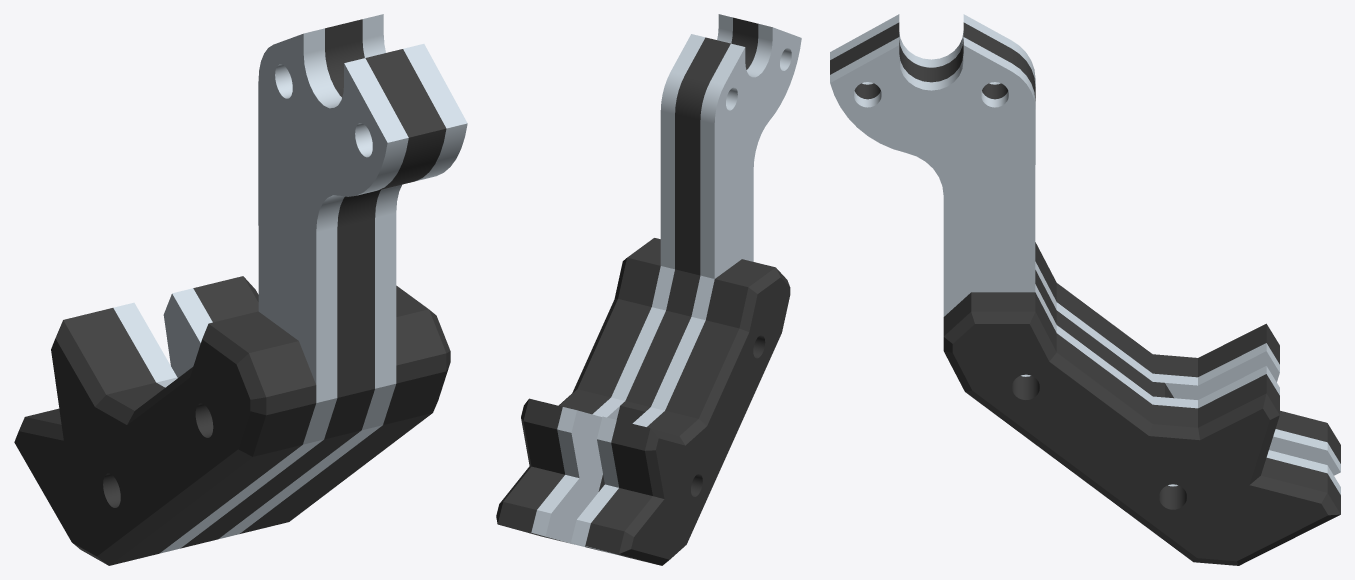
Rendered from Right Claw.glb.
3 views of the same model, side by side, from view 1: azimuth 30°, elevation 25°; view 2: azimuth 150°, elevation 25°; view 3: azimuth 270°, elevation 25° (orthographic). The views are drawn at different scales.
Visible parts, largest first — view 1: Right Claw; view 2: Right Claw; view 3: Right Claw.
Boxes of the visible parts, box(x1,y1,x2,y2) form: Right Claw: box(14, 14, 467, 565); Right Claw: box(496, 14, 801, 565); Right Claw: box(830, 14, 1340, 565).
Size of the model in its own units: 0.03 by 0.0904 by 0.0834.
